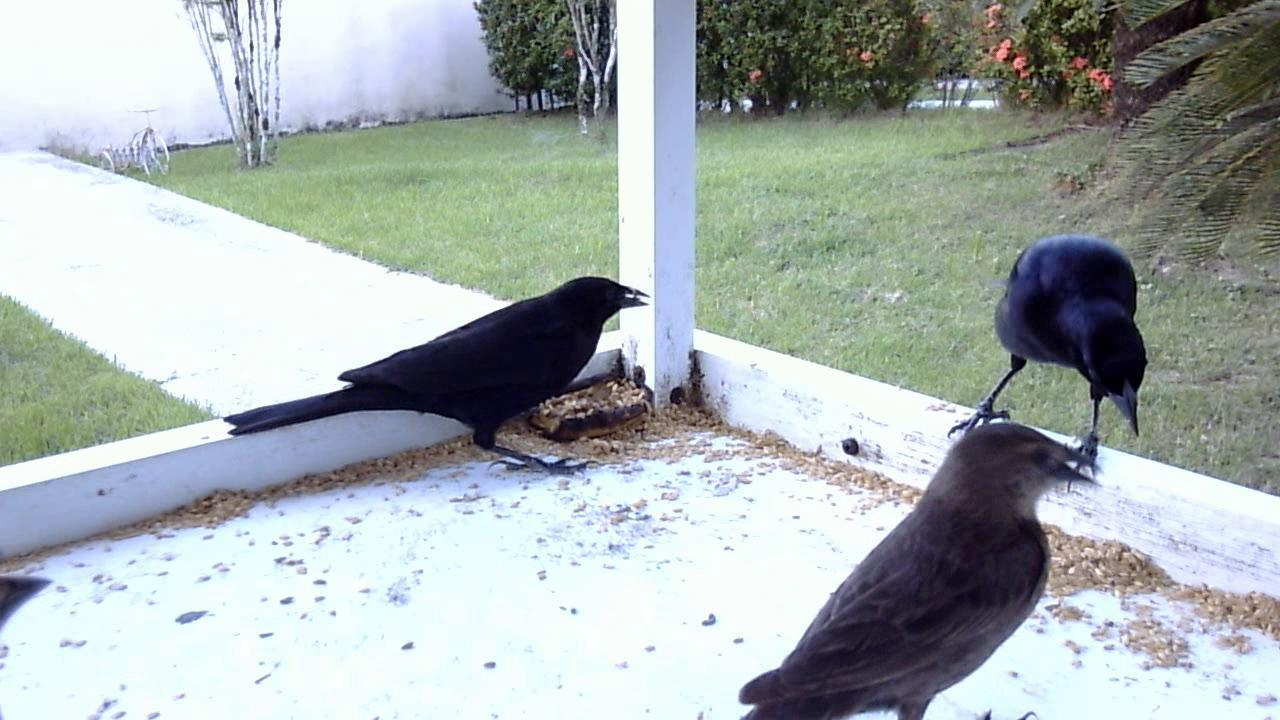chupim: (721, 397, 1111, 716), (220, 267, 658, 480), (937, 228, 1147, 477)
